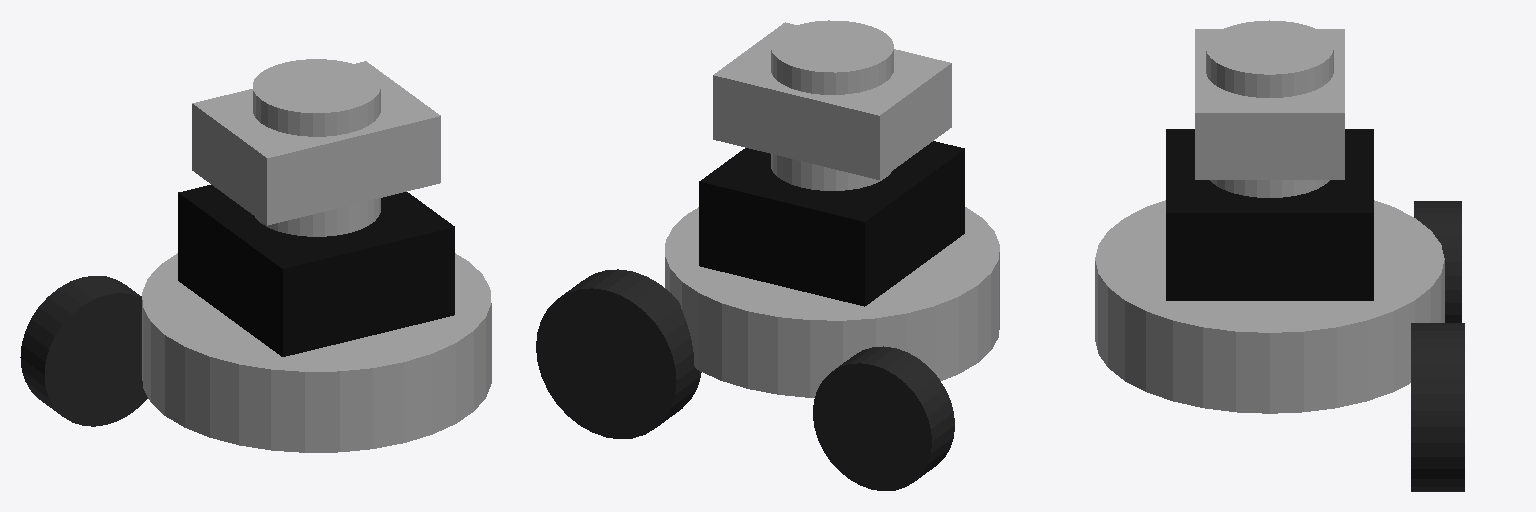
robot.urdf — evolved_robot:
<?xml version="1.0"?>
<robot name="evolved_robot">
  <material name="metal">
    <color rgba="0.7 0.7 0.7 1.0"/>
  </material>
  <material name="plastic">
    <color rgba="0.3 0.3 0.9 1.0"/>
  </material>
  <material name="rubber">
    <color rgba="0.1 0.1 0.1 1.0"/>
  </material>
  <material name="red">
    <color rgba="1.0 0.0 0.0 1.0"/>
  </material>
  <material name="wheel_material">
    <color rgba="0.2 0.2 0.2 1.0"/>
  </material>
  <link name="base_link">
    <visual>
      <geometry><cylinder radius="0.15382927939700256" length="0.07850034267839781"/></geometry>
      <material name="metal"/>
    </visual>
    <collision>
      <geometry><cylinder radius="0.15382927939700256" length="0.07850034267839781"/></geometry>
    </collision>
    <inertial>
      <mass value="5.0"/>
      <inertia ixx="0.06429387116669093" ixy="0" ixz="0" 
               iyy="0.06429387116669093" iyz="0" 
               izz="0.11831723599900537"/>
    </inertial>
  </link>
  <link name="link1">
    <visual>
      <geometry><box size="0.17519830839208272 0.183601067012174 0.17115775961517782"/></geometry>
      <material name="rubber"/>
    </visual>
    <collision>
      <geometry><box size="0.17519830839208272 0.183601067012174 0.17115775961517782"/></geometry>
    </collision>
    <inertial>
      <mass value="0.5"/>
      <inertia ixx="0.0052503608737079835" ixy="0" ixz="0" 
               iyy="0.00499911882832786" iyz="0" 
               izz="0.005366983255954677"/>
    </inertial>
  </link>
  <joint name="joint1" type="prismatic">
    <parent link="base_link"/>
    <child link="link1"/>
    <origin xyz="0 0 0.039250171339198905" rpy="0 0 0"/>
    <axis xyz="-0.5834783414454731 -0.4995768975707236 0.6402936423842196"/>
    <dynamics damping="0.7756290107676767" friction="0.1"/>
    <limit lower="-1.8508781419898999" upper="1.2616069225743036" effort="100" velocity="100"/>
  </joint>
  <link name="link2">
    <visual>
      <geometry><cylinder radius="0.061168260744445924" length="0.05"/></geometry>
      <material name="rubber"/>
    </visual>
    <collision>
      <geometry><cylinder radius="0.061168260744445924" length="0.05"/></geometry>
    </collision>
    <inertial>
      <mass value="0.5"/>
      <inertia ixx="0.0011437223639584645" ixy="0" ixz="0" 
               iyy="0.0011437223639584645" iyz="0" 
               izz="0.001870778061250262"/>
    </inertial>
  </link>
  <joint name="joint2" type="revolute">
    <parent link="base_link"/>
    <child link="link2"/>
    <origin xyz="0 0 0.08925017133919891" rpy="0 0 0"/>
    <axis xyz="0.004036345972824024 0.9999102312649011 0.012776436238622084"/>
    <dynamics damping="0.6237323492205411" friction="0.1"/>
    <limit lower="-1.167996821882725" upper="0.3291637689285097" effort="100" velocity="100"/>
  </joint>
  <link name="link3">
    <visual>
      <geometry><cylinder radius="0.05648714263540267" length="0.21069213350351157"/></geometry>
      <material name="metal"/>
    </visual>
    <collision>
      <geometry><cylinder radius="0.05648714263540267" length="0.21069213350351157"/></geometry>
    </collision>
    <inertial>
      <mass value="0.5"/>
      <inertia ixx="0.00449696391413321" ixy="0" ixz="0" 
               iyy="0.00449696391413321" iyz="0" 
               izz="0.0015953986415561633"/>
    </inertial>
  </link>
  <joint name="joint3" type="fixed">
    <parent link="base_link"/>
    <child link="link3"/>
    <origin xyz="0 0 0.13925017133919892" rpy="0 0 0"/>
    <axis xyz="-0.4392312433782156 0.5473213081910046 -0.712401081161809"/>
    <dynamics damping="0.7578348276463946" friction="0.1"/>
  </joint>
  <link name="link4">
    <visual>
      <geometry>
        <cylinder radius="0.07431988027820463" length="0.0475468977467914"/>
      </geometry>
      <material name="wheel_material"/>
    </visual>
    <collision>
      <geometry>
        <cylinder radius="0.07431988027820463" length="0.0475468977467914"/>
      </geometry>
    </collision>
    <inertial>
      <mass value="1.0"/>
      <inertia ixx="0.0015692534415869873" ixy="0" ixz="0" 
               iyy="0.0015692534415869873" iyz="0" 
               izz="0.002761722302283335"/>
    </inertial>
  </link>
  <joint name="joint4" type="continuous">
    <parent link="base_link"/>
    <child link="link4"/>
    <origin xyz="0.13985519542031713 0.147803363373688 -0.039250171339198905" rpy="1.5708 0 0"/>
    <axis xyz="0 1 0"/>
    <dynamics damping="0.4505874175558846" friction="0.1"/>
  </joint>
  <link name="link5">
    <visual>
      <geometry><box size="0.17621994370962157 0.13213922379327636 0.06508690518799387"/></geometry>
      <material name="metal"/>
    </visual>
    <collision>
      <geometry><box size="0.17621994370962157 0.13213922379327636 0.06508690518799387"/></geometry>
    </collision>
    <inertial>
      <mass value="0.5"/>
      <inertia ixx="0.001808089974303373" ixy="0" ixz="0" 
               iyy="0.0029408144823310917" iyz="0" 
               izz="0.00404285358547598"/>
    </inertial>
  </link>
  <joint name="joint5" type="revolute">
    <parent link="base_link"/>
    <child link="link5"/>
    <origin xyz="0 0 0.1892501713391989" rpy="0 0 0"/>
    <axis xyz="-0.6232689634309198 0.28684034522542107 0.7275014883659746"/>
    <dynamics damping="0.9085849821180177" friction="0.1"/>
    <limit lower="-0.9449634106549294" upper="1.031742174438291" effort="100" velocity="100"/>
  </joint>
  <link name="link6">
    <visual>
      <geometry>
        <cylinder radius="0.06308729785767267" length="0.04215283204978924"/>
      </geometry>
      <material name="wheel_material"/>
    </visual>
    <collision>
      <geometry>
        <cylinder radius="0.06308729785767267" length="0.04215283204978924"/>
      </geometry>
    </collision>
    <inertial>
      <mass value="1.0"/>
      <inertia ixx="0.0011430735585638225" ixy="0" ixz="0" 
               iyy="0.0011430735585638225" iyz="0" 
               izz="0.0019900035754913553"/>
    </inertial>
  </link>
  <joint name="joint6" type="continuous">
    <parent link="base_link"/>
    <child link="link6"/>
    <origin xyz="-0.13985519542031713 0.147803363373688 -0.039250171339198905" rpy="1.5708 0 0"/>
    <axis xyz="0 1 0"/>
    <dynamics damping="0.5100125765798248" friction="0.1"/>
  </joint>
</robot>

--- Facts derived from the render (not from the file) ---
The picture shows the robot from 3 angles, left to right: view 1: azimuth 30°, elevation 25°; view 2: azimuth 150°, elevation 25°; view 3: azimuth 270°, elevation 25°; orthographic projection.
Robot: evolved_robot — 7 links, 6 joints (2 revolute, 2 continuous, 1 prismatic, 1 fixed); root link base_link; default pose: every joint at zero.
Links seen in each view (by area): view 1: base_link, link1, link5, link6, link3; view 2: base_link, link1, link4, link5, link6, link3; view 3: base_link, link1, link5, link3, link4, link6.
Boxes of the visible links, x1=… form: base_link: x1=142, y1=253, x2=491, y2=452; link1: x1=178, y1=185, x2=454, y2=356; link5: x1=192, y1=61, x2=440, y2=225; link6: x1=20, y1=276, x2=147, y2=426; link3: x1=253, y1=59, x2=380, y2=236; base_link: x1=665, y1=207, x2=999, y2=397; link1: x1=699, y1=141, x2=964, y2=306; link4: x1=536, y1=269, x2=701, y2=438; link5: x1=713, y1=22, x2=951, y2=179; link6: x1=813, y1=346, x2=954, y2=490; link3: x1=771, y1=20, x2=893, y2=190; base_link: x1=1095, y1=200, x2=1444, y2=413; link1: x1=1166, y1=129, x2=1373, y2=300; link5: x1=1195, y1=29, x2=1344, y2=179; link3: x1=1206, y1=20, x2=1333, y2=197; link4: x1=1411, y1=323, x2=1464, y2=491; link6: x1=1414, y1=201, x2=1461, y2=322.
Bounding box of the posed robot: 0.4171 × 0.3254 × 0.3582 m (x, y, z).
Geometry: primitives only (box / cylinder / sphere), no mesh files.